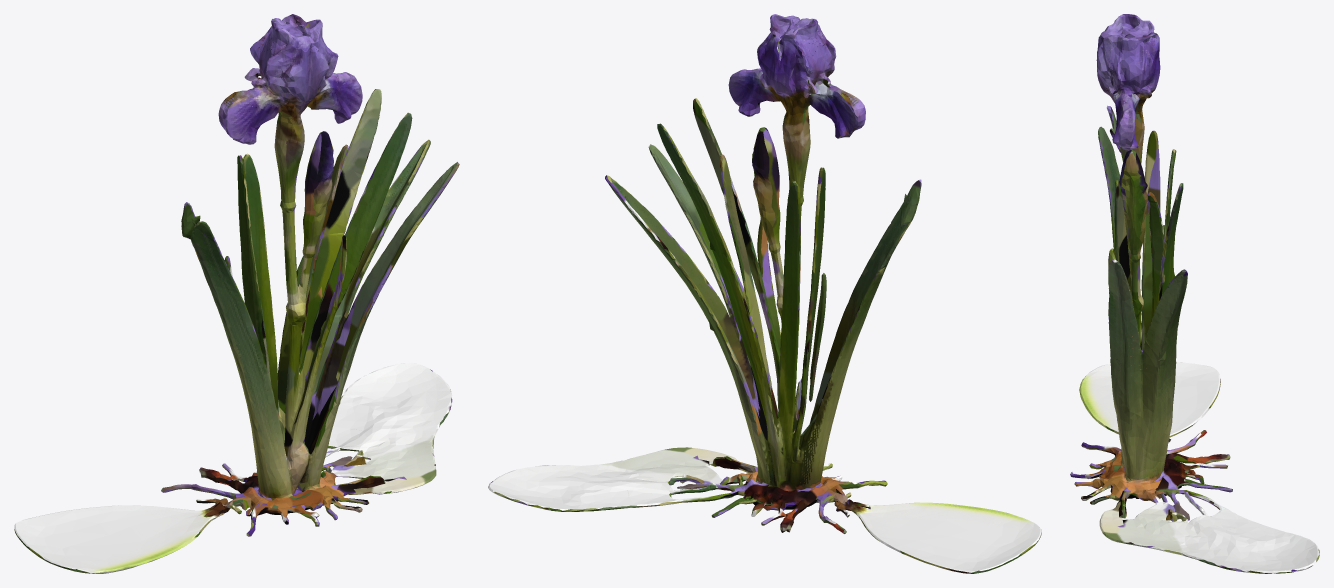
The model's file is traveler_env_coast_castle_iris_clump_00001_.glb.
3 renders of one model, left to right at view 1: azimuth 30°, elevation 25°; view 2: azimuth 150°, elevation 25°; view 3: azimuth 270°, elevation 25°, orthographic. The views are drawn at different scales.
Visible parts, largest first — view 1: temp_mesh.ply; view 2: temp_mesh.ply; view 3: temp_mesh.ply.
Boxes of the visible parts, bbox=[...] form: temp_mesh.ply: bbox=[14, 14, 459, 573]; temp_mesh.ply: bbox=[488, 14, 1041, 573]; temp_mesh.ply: bbox=[1070, 14, 1319, 573].
Size of the model in its own units: 1.97 by 1.92 by 0.9472.
Materials: 1 (1 with a texture image).
